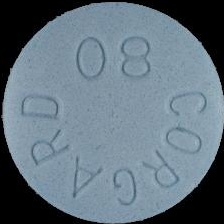59762-0812: (0, 0, 224, 224)
